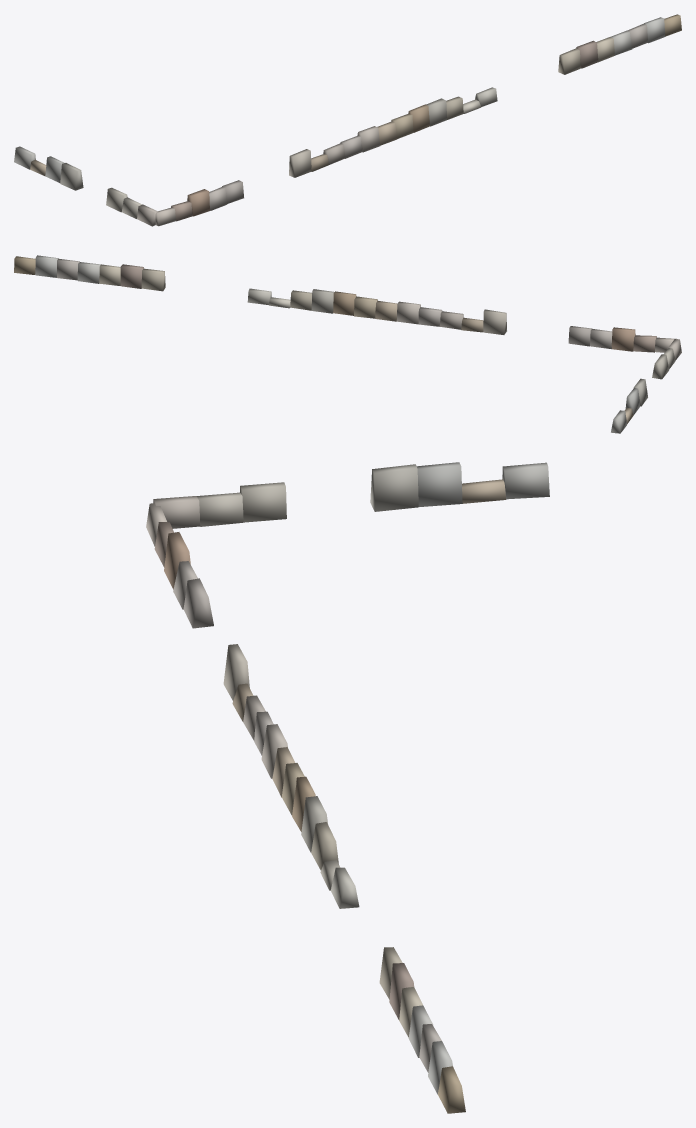
File: farm_18_13_far.glb
3 views of the same model, one above another, from view 1: azimuth 30°, elevation 25°; view 2: azimuth 150°, elevation 25°; view 3: azimuth 270°, elevation 25° (orthographic). The views are drawn at different scales.
Parts seen in each view (by area): view 1: geometry_0; view 2: geometry_0; view 3: geometry_0.
Boxes of the visible parts, x1,y1,x2,y2 form: geometry_0: (14, 14, 681, 226); geometry_0: (14, 255, 681, 433); geometry_0: (146, 462, 549, 1113).
Bounding box in the file's own units: 49.82 × 1.92 × 13.87.
